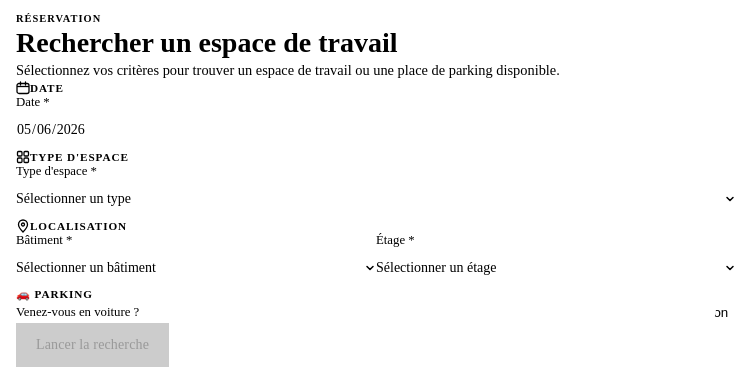
WsbSearchPage — dropdown Étage › sélectionne Niv. 3
This screenshot has width=754, height=384.
Click the dropdown with id "search-floor" at [436, 268], box 376,248 -> 736,288
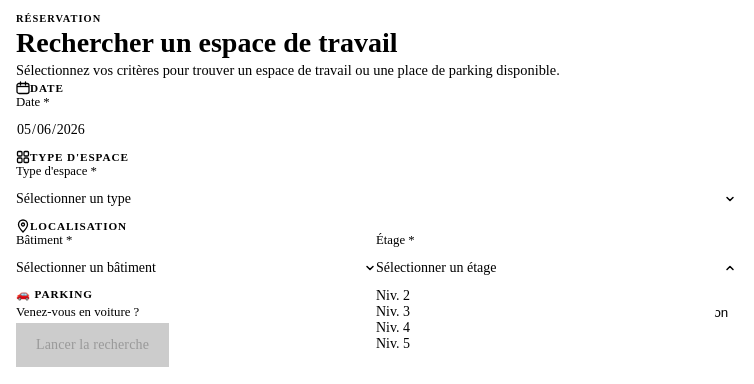
Click the option "Niv. 3" at [393, 312], box 376,304 -> 410,319
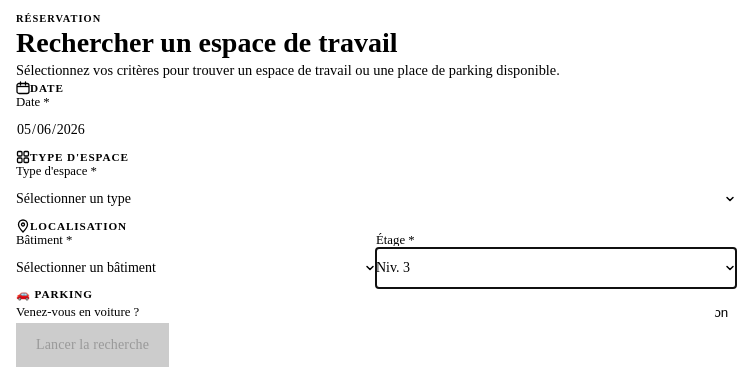
Now the dropdown with id "search-floor" reads "Niv. 3", box 376,248 -> 736,288
